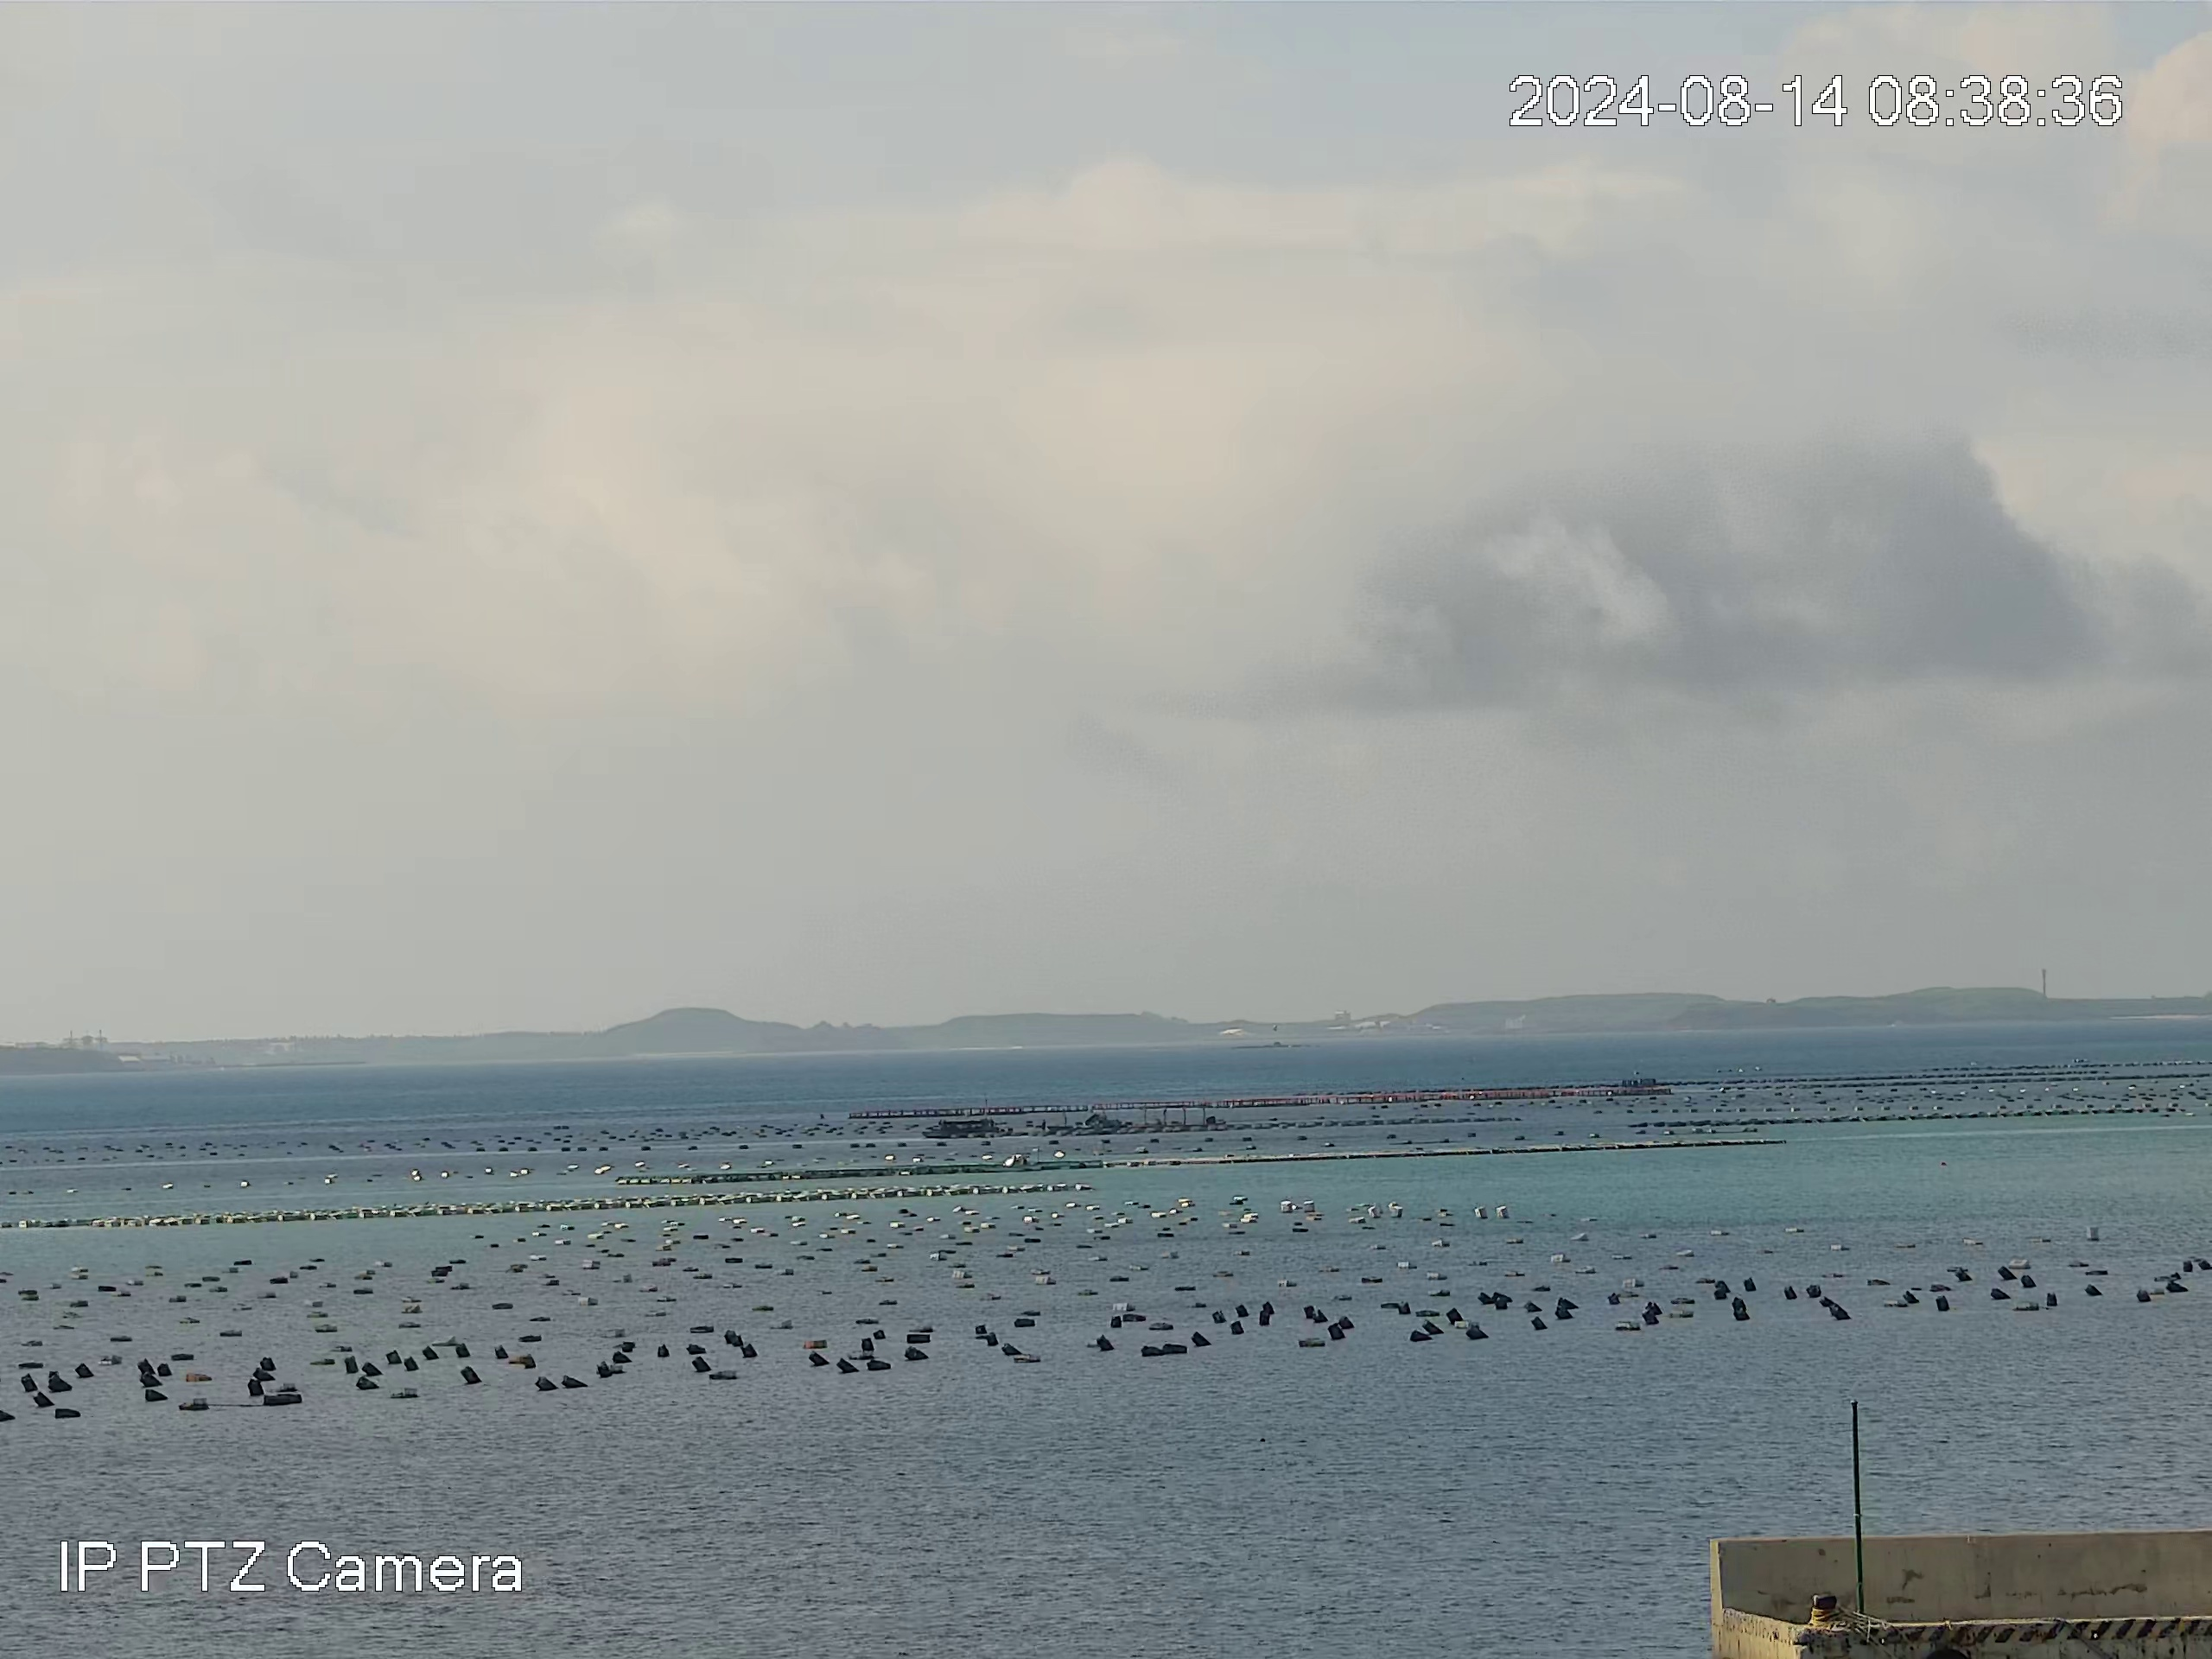boat: (918, 1119, 1007, 1141)
